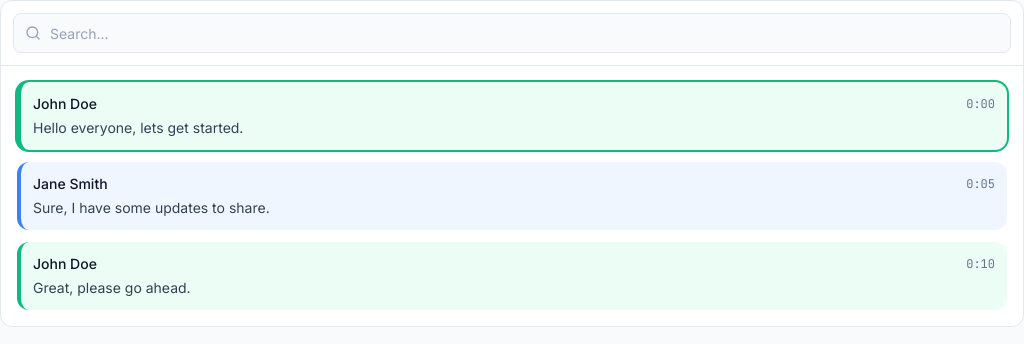
TranscriptViewer › should filter segments based on search query
The width and height of the screenshot is (1024, 344).
In the search field with placeholder "Search...": {"x": 512, "y": 33} [13,13,1011,53], type "updates"
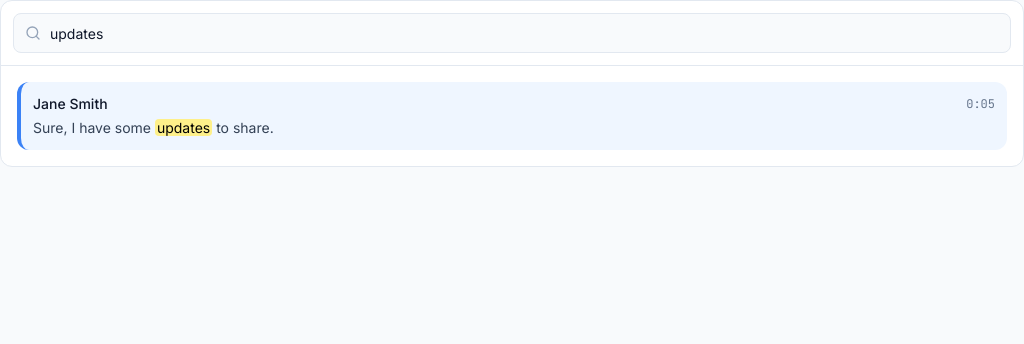
expect the text "Sure, I have some updates to share." is shown: met, box [33,119,274,136]
expect the text "Hello everyone, lets get started." is gone: met
expect the text "Great, please go ahead." is gone: met
